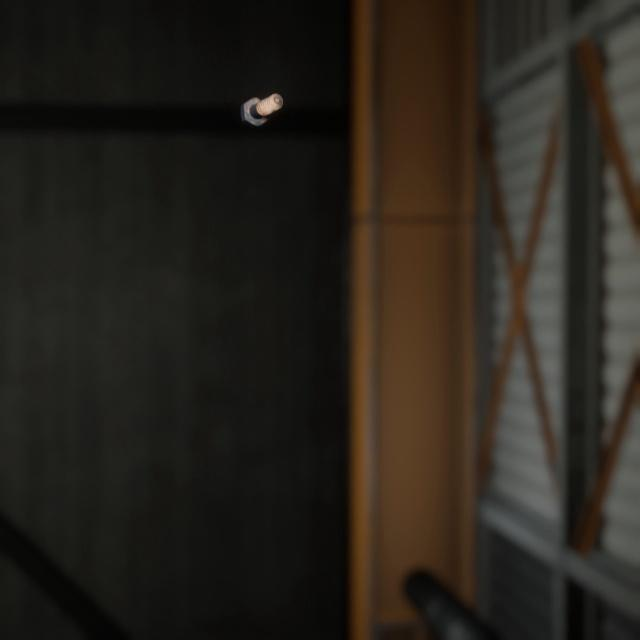bolt: (236, 76, 287, 120)
